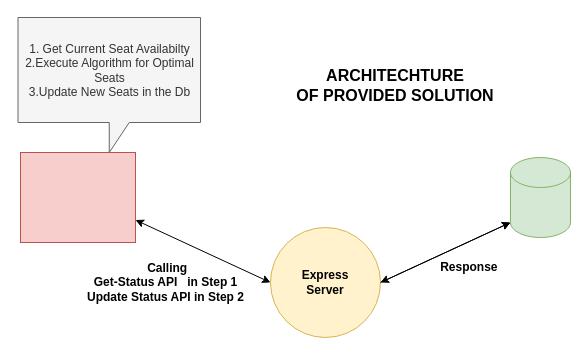
Some shapes in this 588 by 355 pixel diagram are drawn without their labels. Each missing label, with the box of its shape:
MongoDb: (510, 156, 570, 238)
React FrontEnd: (20, 152, 136, 242)
